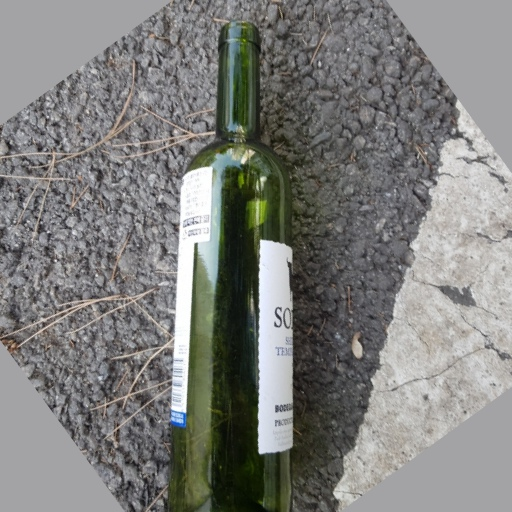Glass_2: (167, 16, 297, 512)
